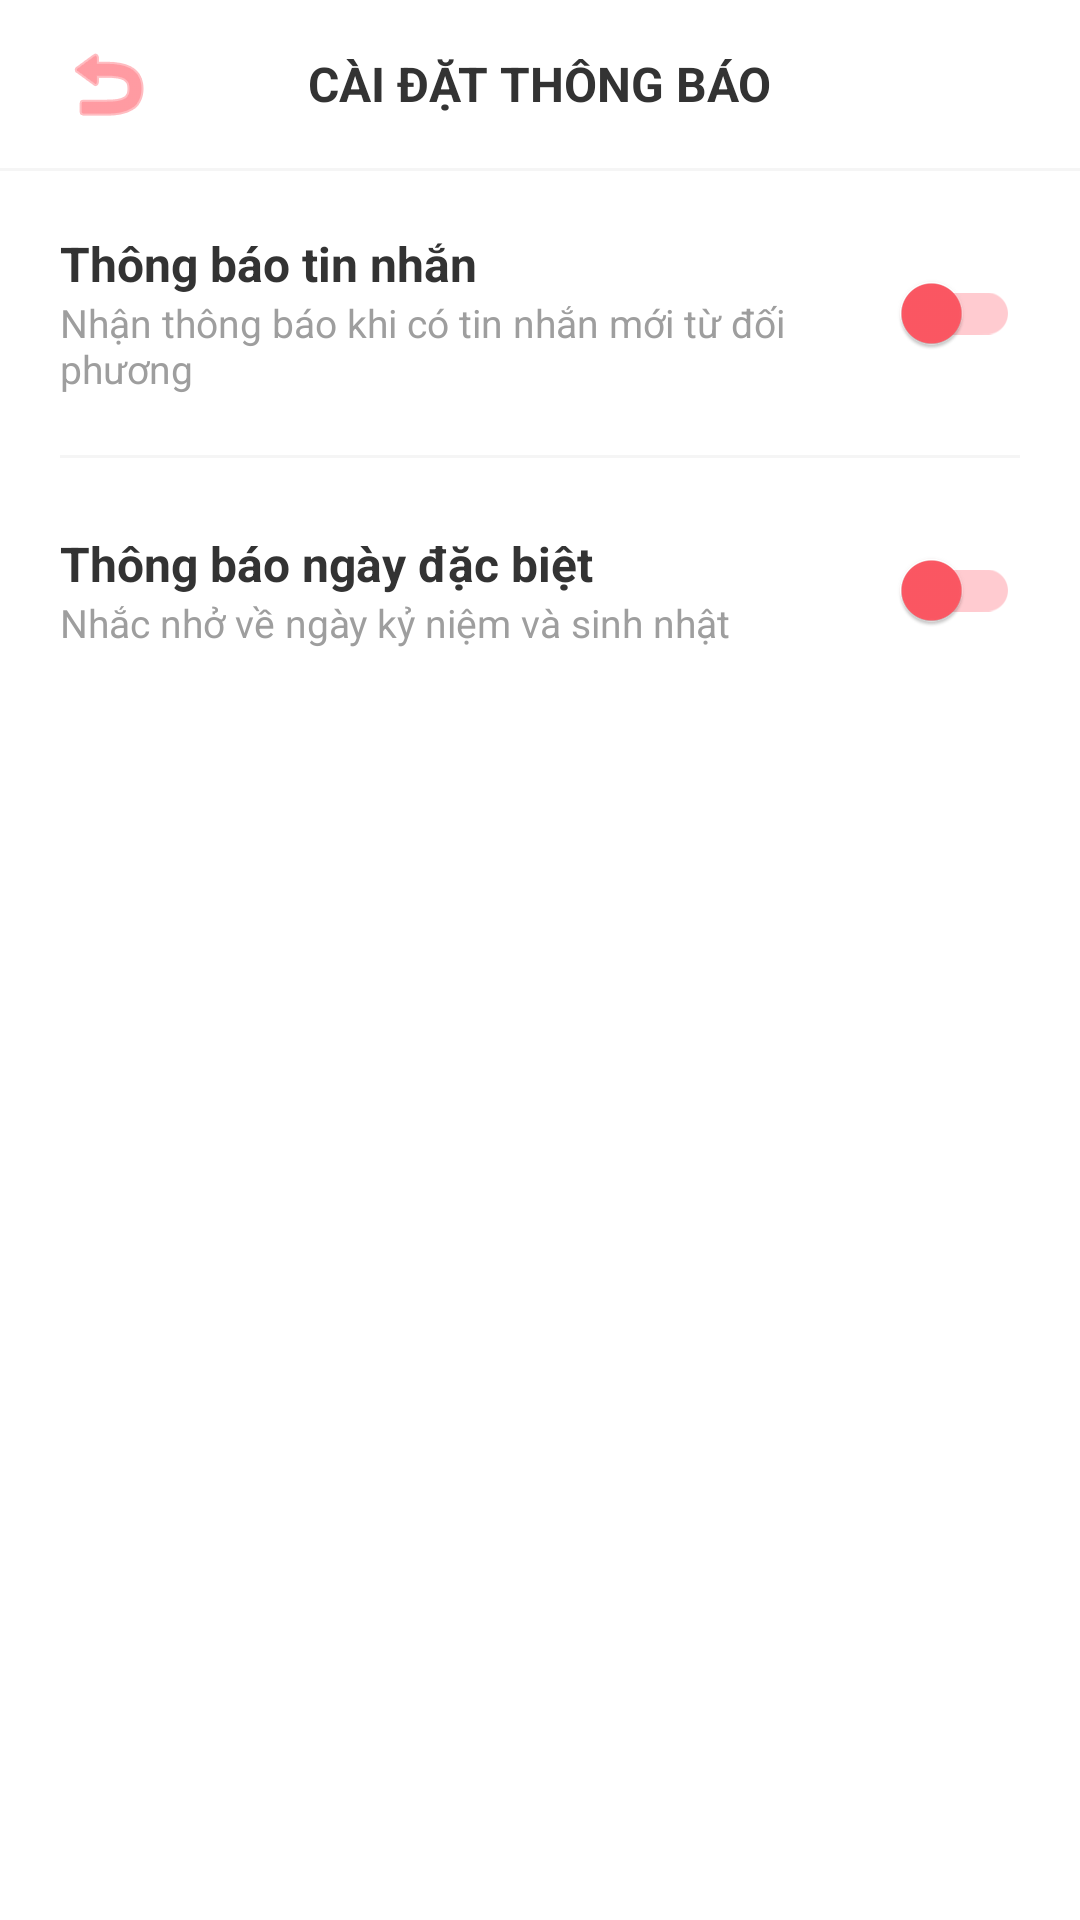

Where icons sit on this 1080 x 1920 app screen, as (left=x1, top=y1, right=x2, bottom=y2):
revert: (left=75, top=53, right=144, bottom=116)
